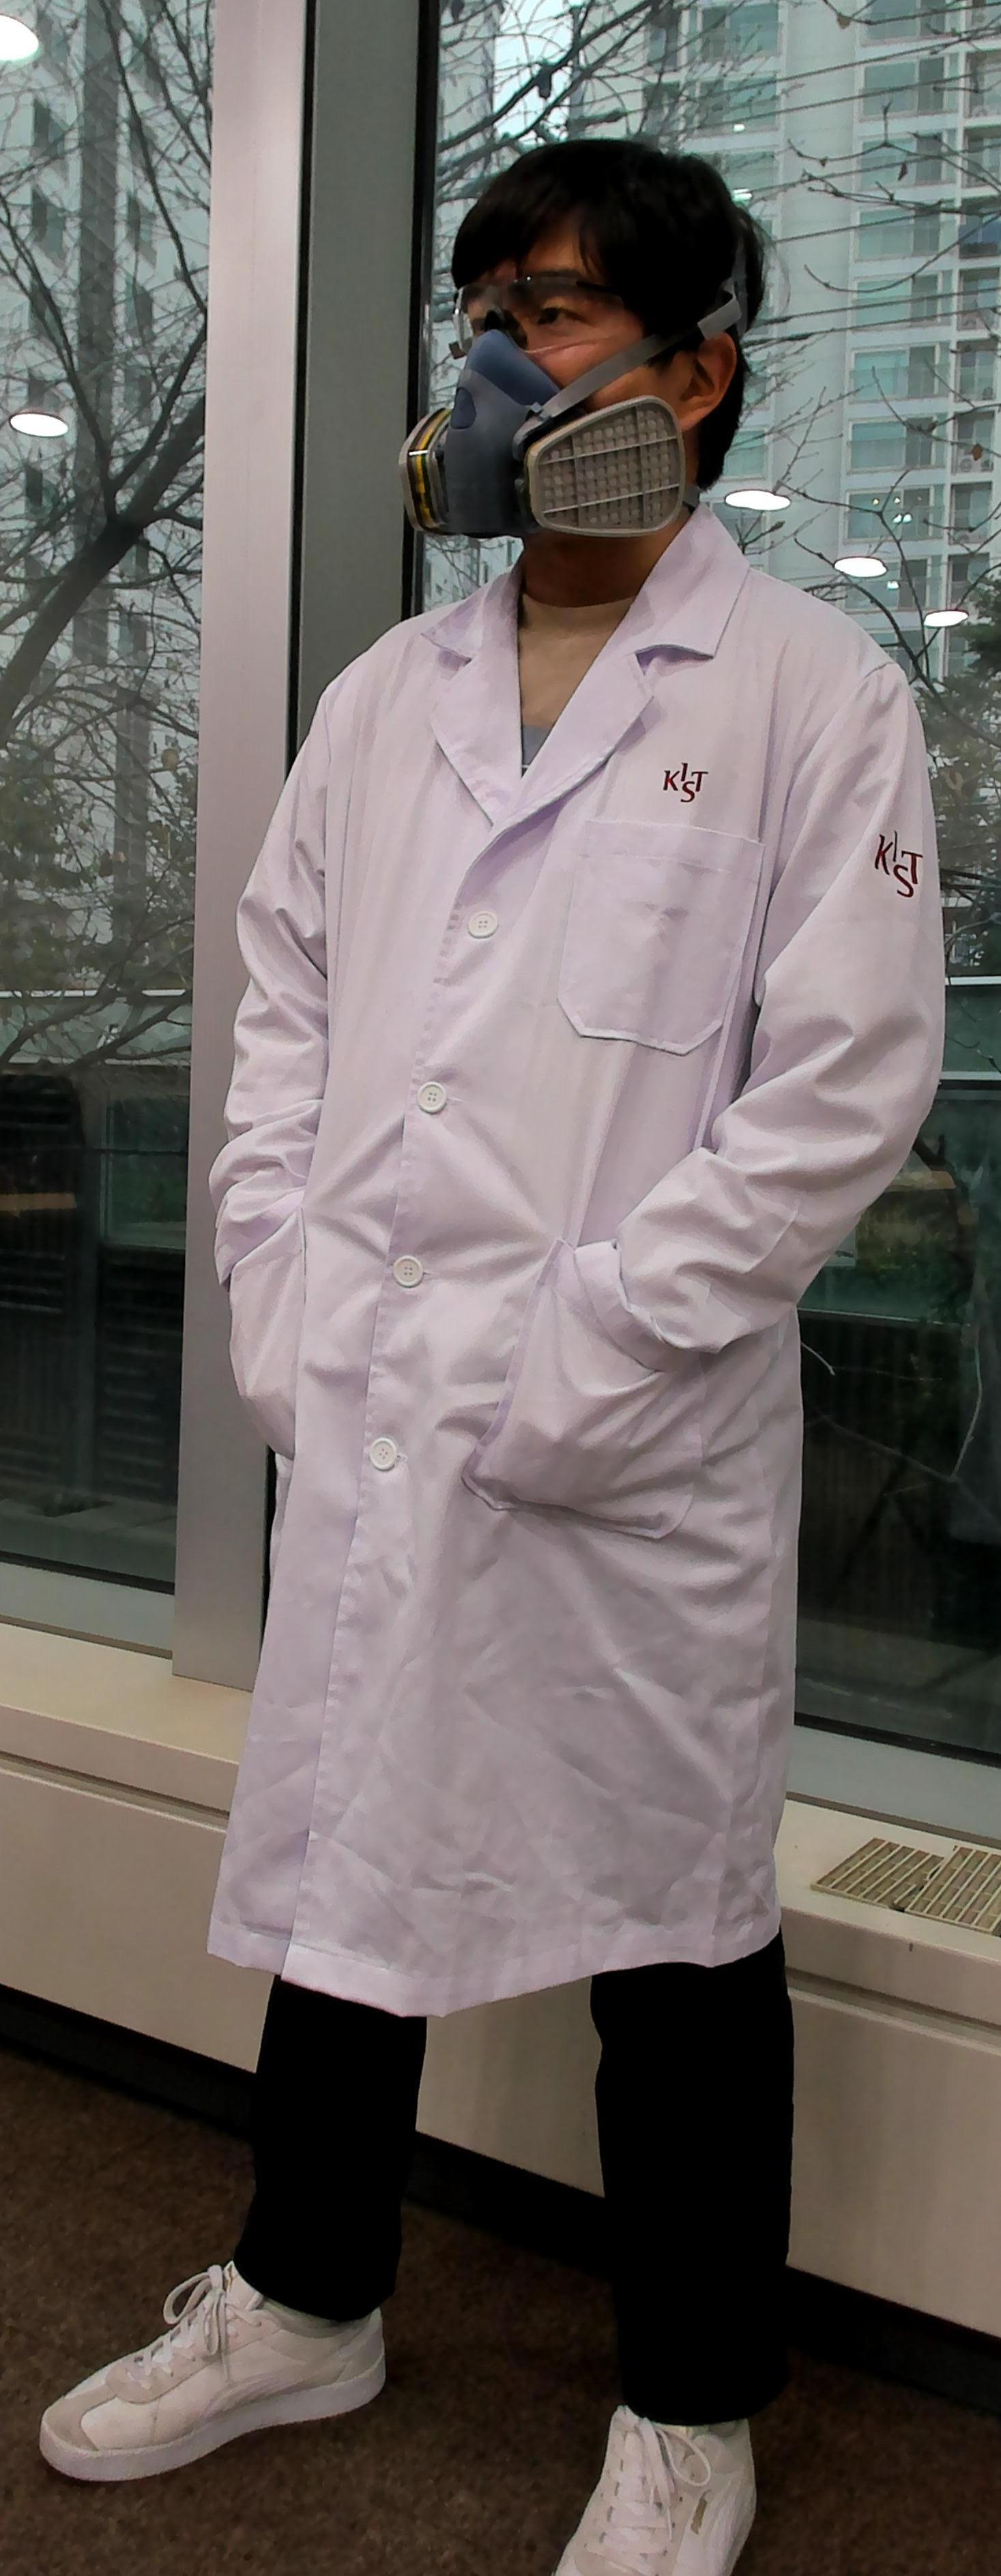lab_coat: (166, 542, 920, 1983)
